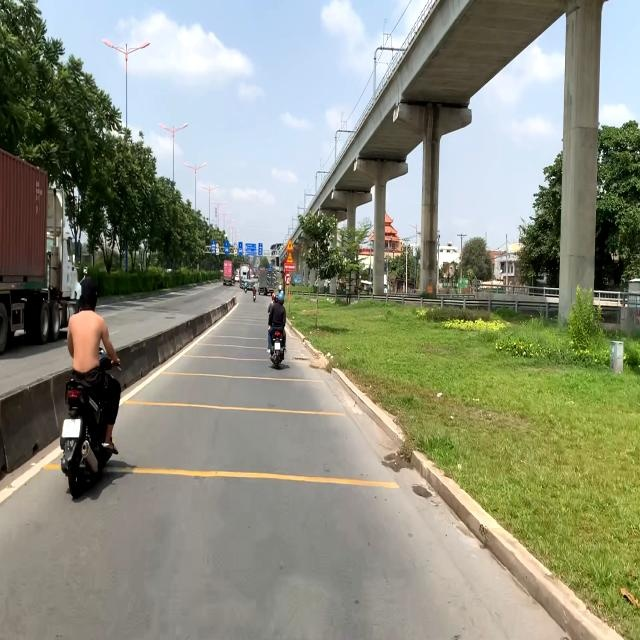bien_chi_dan: (284, 272, 292, 286), (286, 238, 294, 250), (286, 252, 294, 263)
